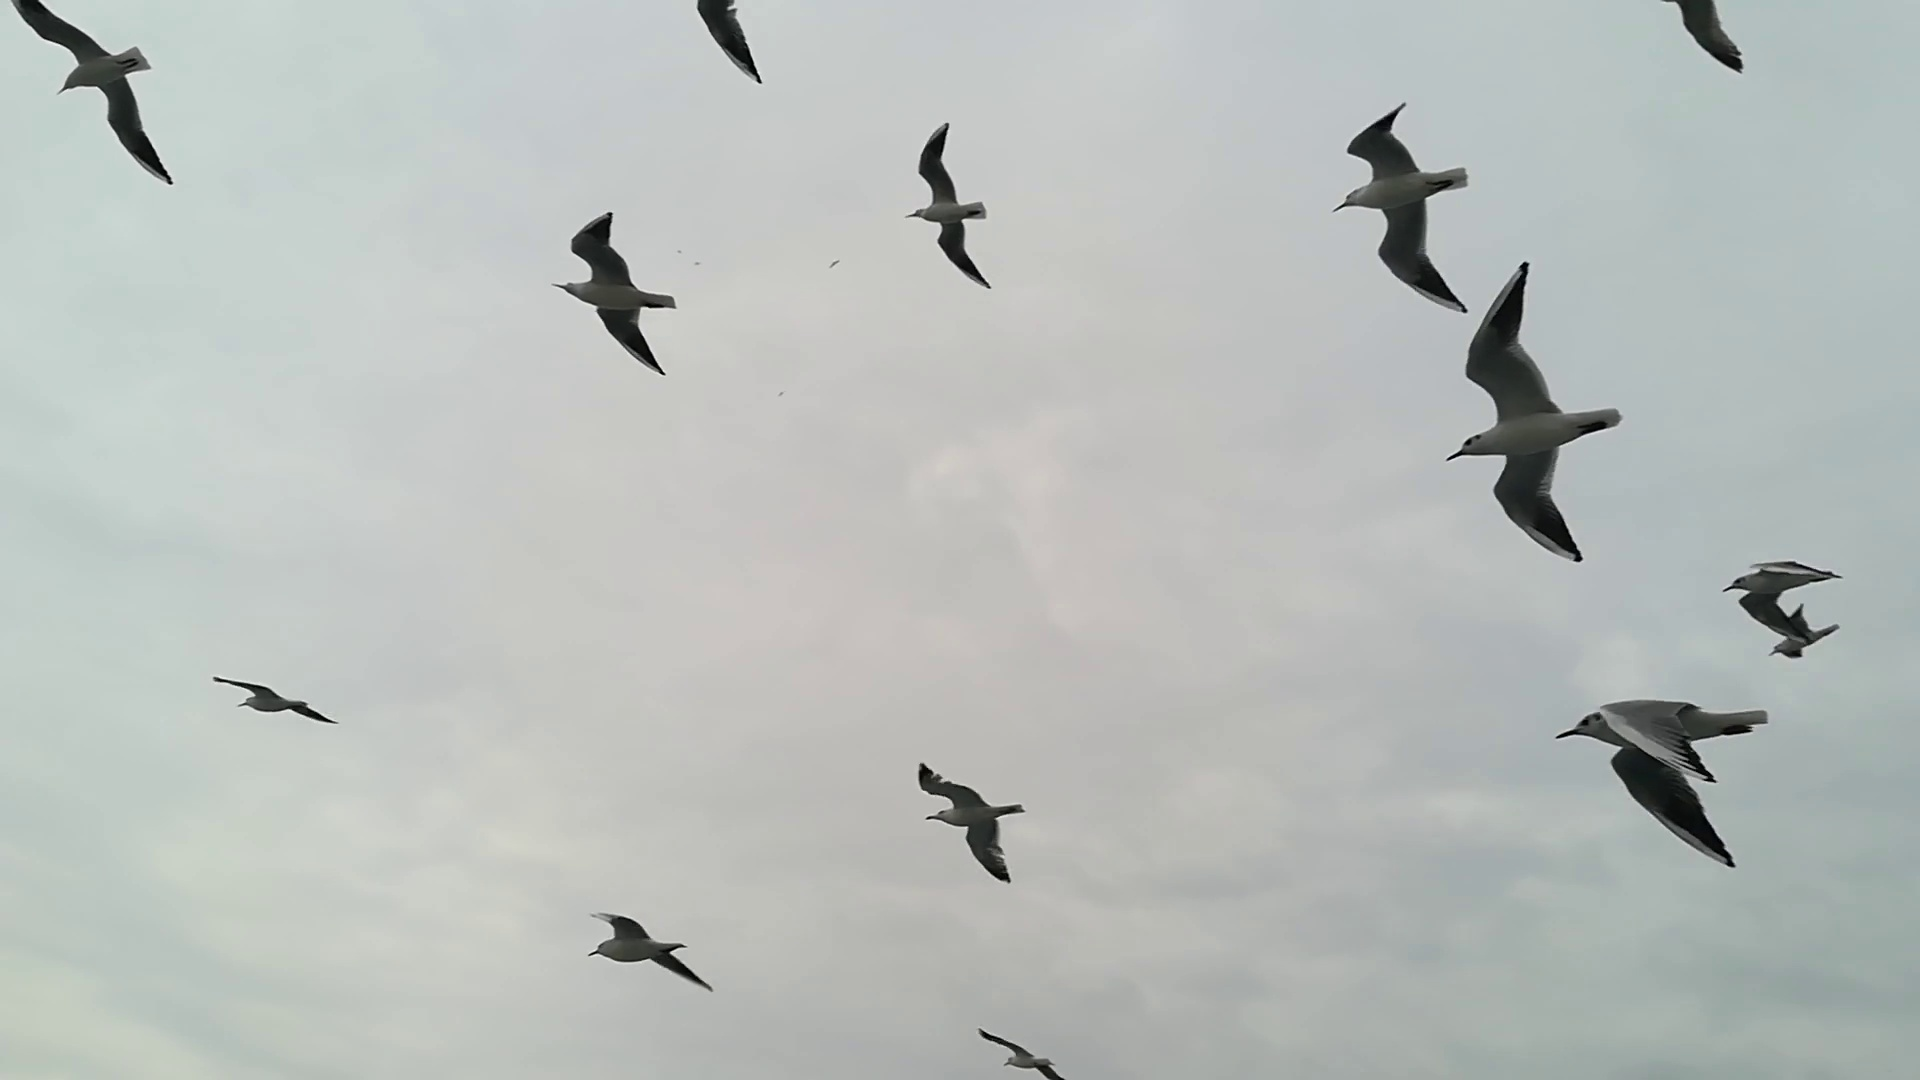bird: (1443, 258, 1621, 564), (1555, 702, 1774, 869), (0, 1, 179, 183), (1331, 102, 1469, 316), (549, 208, 676, 375), (905, 117, 992, 286), (913, 764, 1029, 881), (585, 909, 712, 993), (1724, 559, 1833, 644), (207, 669, 339, 727), (694, 1, 764, 87), (1665, 0, 1747, 70), (975, 1029, 1064, 1080), (1768, 604, 1838, 655)
